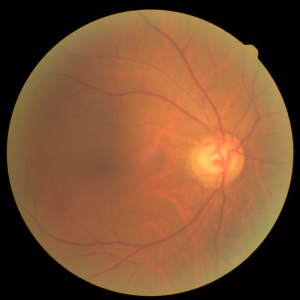glaucoma: (96, 98, 272, 219)
